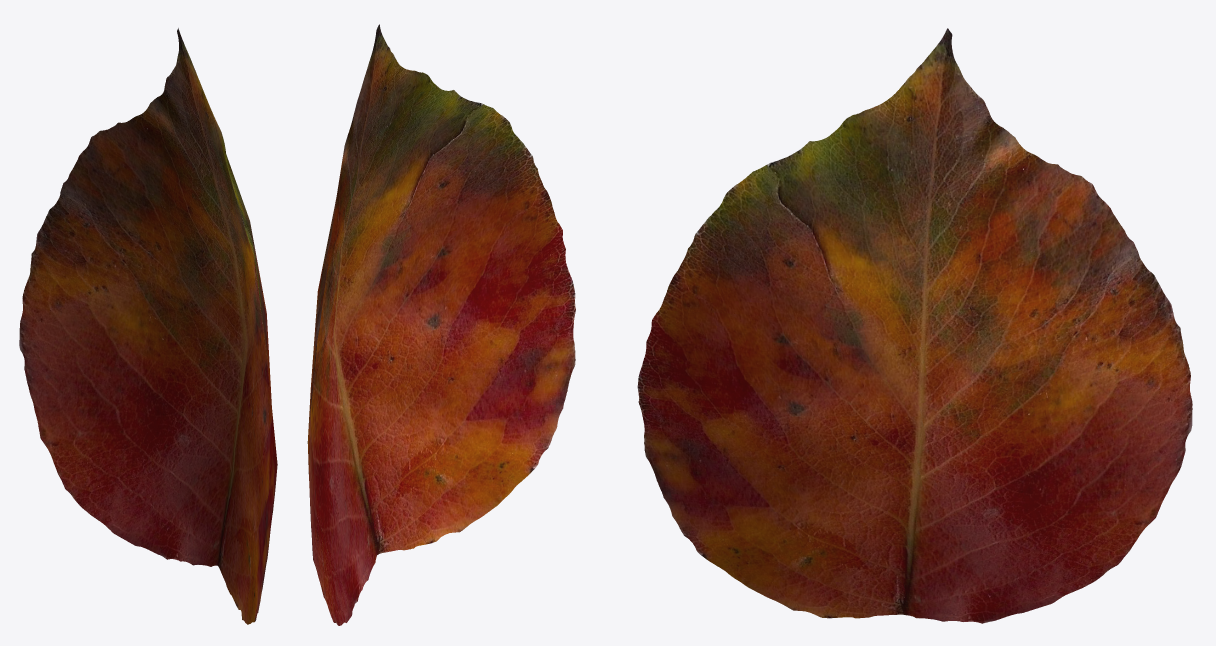
File: LEAF5.fbx
The picture shows the model from 3 angles, left to right: view 1: azimuth 30°, elevation 25°; view 2: azimuth 150°, elevation 25°; view 3: azimuth 270°, elevation 25°; orthographic projection. The views are drawn at different scales.
Parts seen in each view (by area): view 1: FALL35.001; view 2: FALL35.001; view 3: FALL35.001.
Part boxes in pixels (box(x1,y1,x2,y2)): FALL35.001: box(19, 28, 277, 624); FALL35.001: box(307, 24, 575, 625); FALL35.001: box(637, 28, 1192, 623).
Size of the model in its own units: 18.56 by 93.33 by 80.14.
